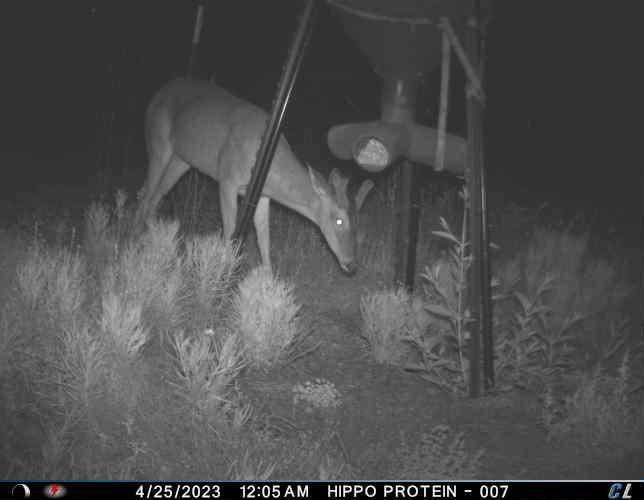Deer: (134, 74, 379, 281)
